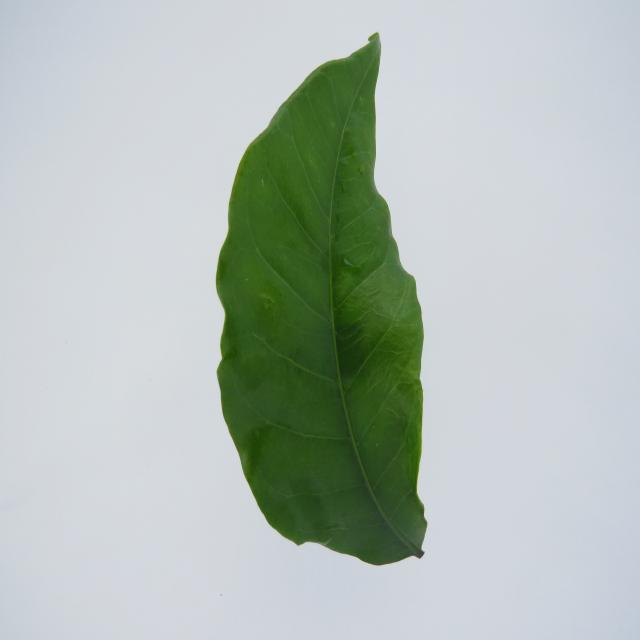DeficienciaNutricional-Calcio: (216, 33, 426, 565)
